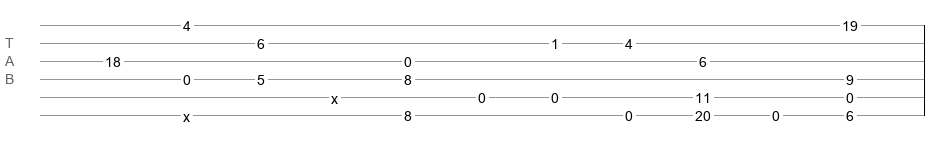0: (183, 72, 191, 82), (404, 54, 412, 64), (478, 90, 486, 100), (551, 90, 559, 100), (625, 108, 633, 118), (772, 108, 780, 118), (846, 90, 854, 100)
1: (551, 36, 559, 46)
11: (695, 90, 711, 100)
18: (105, 54, 121, 64)
19: (842, 18, 858, 28)
20: (695, 108, 711, 118)
4: (183, 18, 191, 28), (625, 36, 633, 46)
5: (257, 72, 265, 82)
6: (257, 36, 265, 46), (699, 54, 707, 64), (846, 108, 854, 118)
8: (404, 72, 412, 82), (404, 108, 412, 118)
9: (846, 72, 854, 82)
x: (183, 109, 190, 117), (331, 91, 338, 99)
